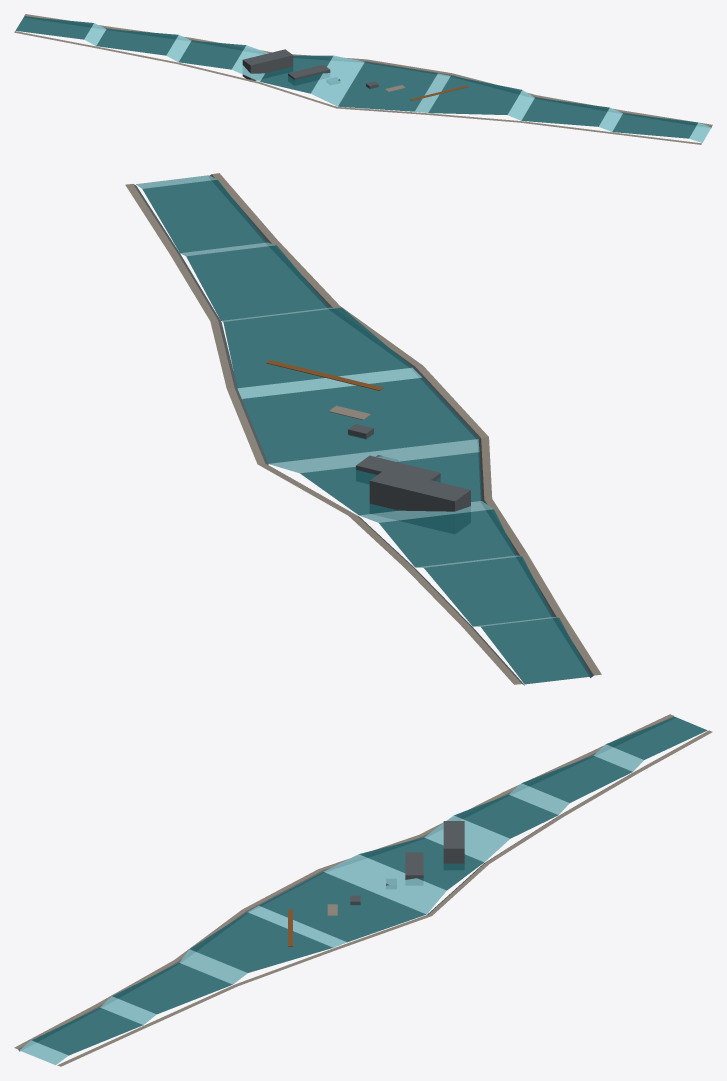
File: water_thac_da_chay_lac_duong.glb
The picture shows the model from 3 angles, top to bottom: view 1: azimuth 30°, elevation 25°; view 2: azimuth 150°, elevation 25°; view 3: azimuth 270°, elevation 25°; orthographic projection. The views are drawn at different scales.
Visible parts, largest first — view 1: water_terraces_water_thac_da_chay_lac_duong, waterfall_curtain_water_thac_da_chay_lac_duong, canyon_walkway_water_thac_da_chay_lac_duong, da_chay_three_tier_basalt_granite_cliff, da_chay_middle_mossy_terrace_ledge, basalt_canyon_embankments_water_thac_da_chay_lac_duong; view 2: water_terraces_water_thac_da_chay_lac_duong, canyon_walkway_water_thac_da_chay_lac_duong, waterfall_curtain_water_thac_da_chay_lac_duong, da_chay_three_tier_basalt_granite_cliff, basalt_canyon_embankments_water_thac_da_chay_lac_duong, da_chay_middle_mossy_terrace_ledge; view 3: water_terraces_water_thac_da_chay_lac_duong, waterfall_curtain_water_thac_da_chay_lac_duong, canyon_walkway_water_thac_da_chay_lac_duong, da_chay_three_tier_basalt_granite_cliff, basalt_canyon_embankments_water_thac_da_chay_lac_duong.
Part boxes in pixels (x1=…): water_terraces_water_thac_da_chay_lac_duong: x1=15, y1=16, x2=697, y2=138; waterfall_curtain_water_thac_da_chay_lac_duong: x1=84, y1=23, x2=711, y2=142; canyon_walkway_water_thac_da_chay_lac_duong: x1=14, y1=14, x2=712, y2=144; da_chay_three_tier_basalt_granite_cliff: x1=242, y1=49, x2=293, y2=80; da_chay_middle_mossy_terrace_ledge: x1=288, y1=64, x2=330, y2=80; basalt_canyon_embankments_water_thac_da_chay_lac_duong: x1=24, y1=15, x2=711, y2=127; water_terraces_water_thac_da_chay_lac_duong: x1=142, y1=179, x2=590, y2=684; canyon_walkway_water_thac_da_chay_lac_duong: x1=125, y1=173, x2=601, y2=684; waterfall_curtain_water_thac_da_chay_lac_duong: x1=136, y1=175, x2=558, y2=626; da_chay_three_tier_basalt_granite_cliff: x1=369, y1=469, x2=470, y2=511; basalt_canyon_embankments_water_thac_da_chay_lac_duong: x1=133, y1=174, x2=593, y2=685; da_chay_middle_mossy_terrace_ledge: x1=356, y1=455, x2=440, y2=480; water_terraces_water_thac_da_chay_lac_duong: x1=31, y1=717, x2=707, y2=1055; waterfall_curtain_water_thac_da_chay_lac_duong: x1=19, y1=744, x2=643, y2=1065; canyon_walkway_water_thac_da_chay_lac_duong: x1=14, y1=714, x2=712, y2=1066; da_chay_three_tier_basalt_granite_cliff: x1=443, y1=821, x2=464, y2=863; basalt_canyon_embankments_water_thac_da_chay_lac_duong: x1=18, y1=716, x2=707, y2=1051.
Bounding box in the file's own units: 594 × 47.45 × 580.
